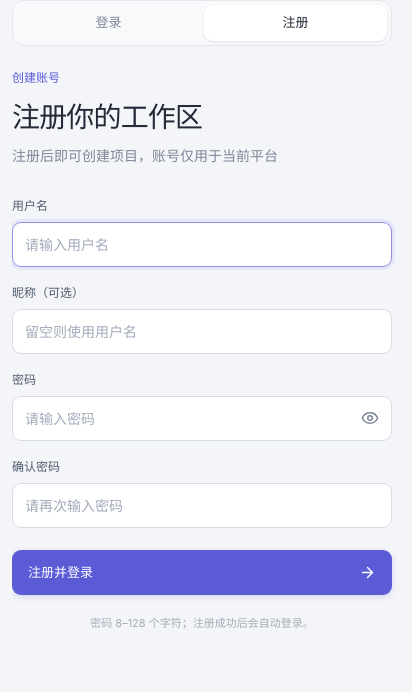
Test: AuthForm › 409 用户名重复时展示可读错误且不回传成功
Step 1. Type "carol" into the field with id "username" → (202, 244), box [12,222,392,267]
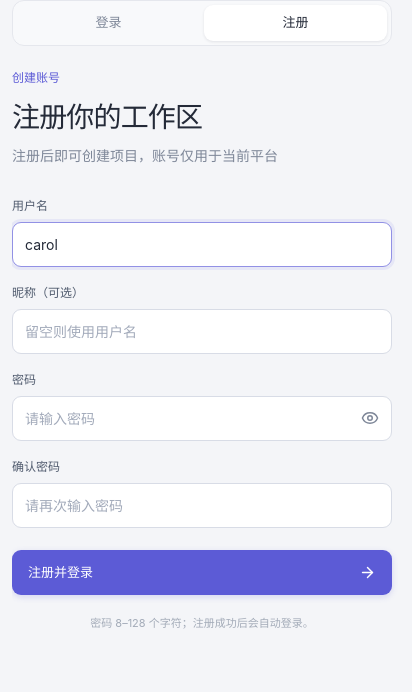
Step 2. Type "password123" into the password field labelled "密码" → (202, 418), box [12,396,392,441]
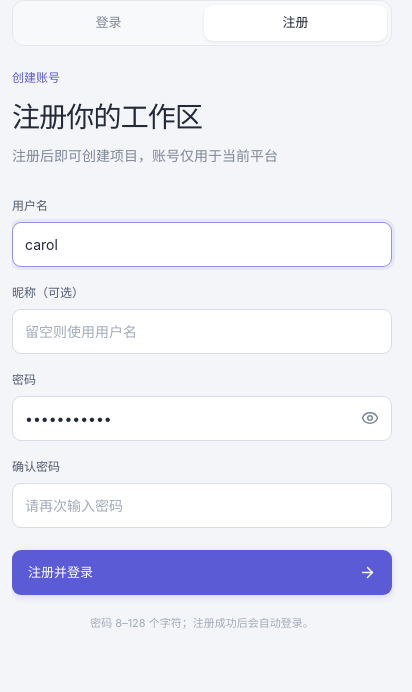
Step 3. Type "password123" into the password field with id "confirm-password" → (202, 506), box [12,483,392,528]
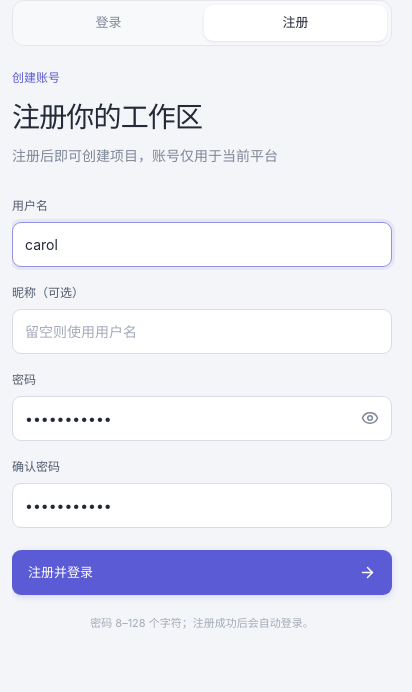
Step 4. Submit the form
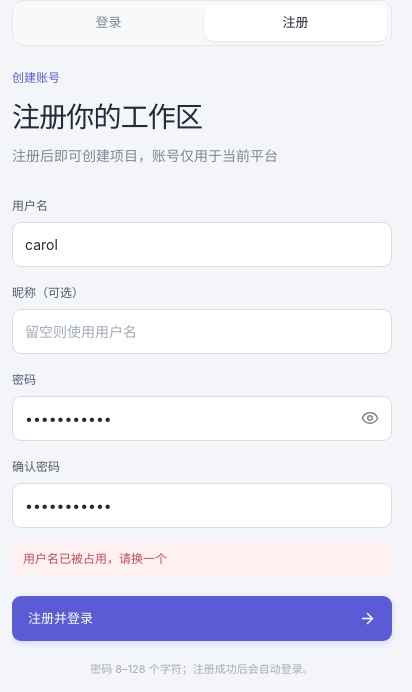
expect the message "用户名已被占用，请换一个" is shown: met, box [12,541,392,577]
